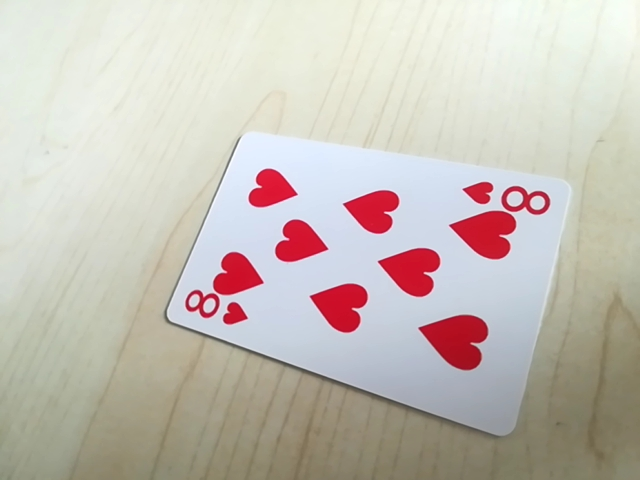hx 8: (457, 179, 553, 216), (177, 292, 249, 329)
